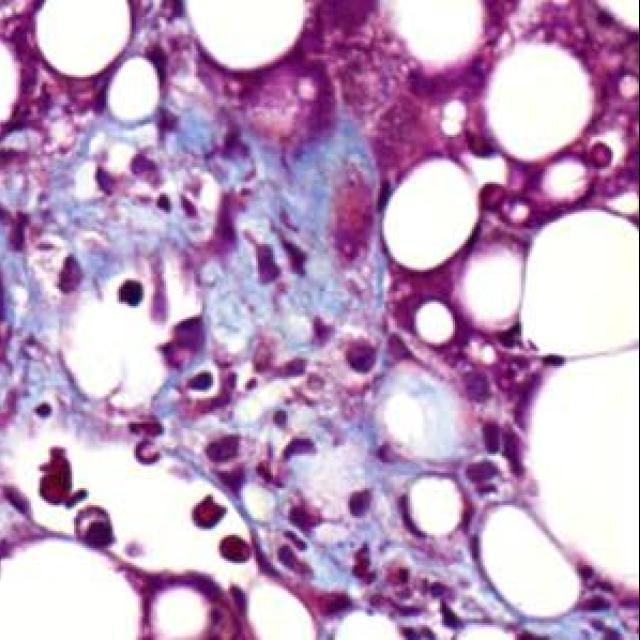steatosis: (526, 349, 639, 589), (521, 210, 639, 356), (0, 540, 138, 640), (485, 44, 594, 161), (480, 505, 580, 618), (382, 159, 478, 271), (187, 0, 306, 69), (36, 0, 130, 76), (384, 0, 484, 69), (455, 244, 522, 332), (248, 580, 316, 639), (108, 58, 159, 122), (409, 476, 461, 536), (152, 588, 210, 640), (335, 611, 401, 639), (415, 301, 455, 344)
